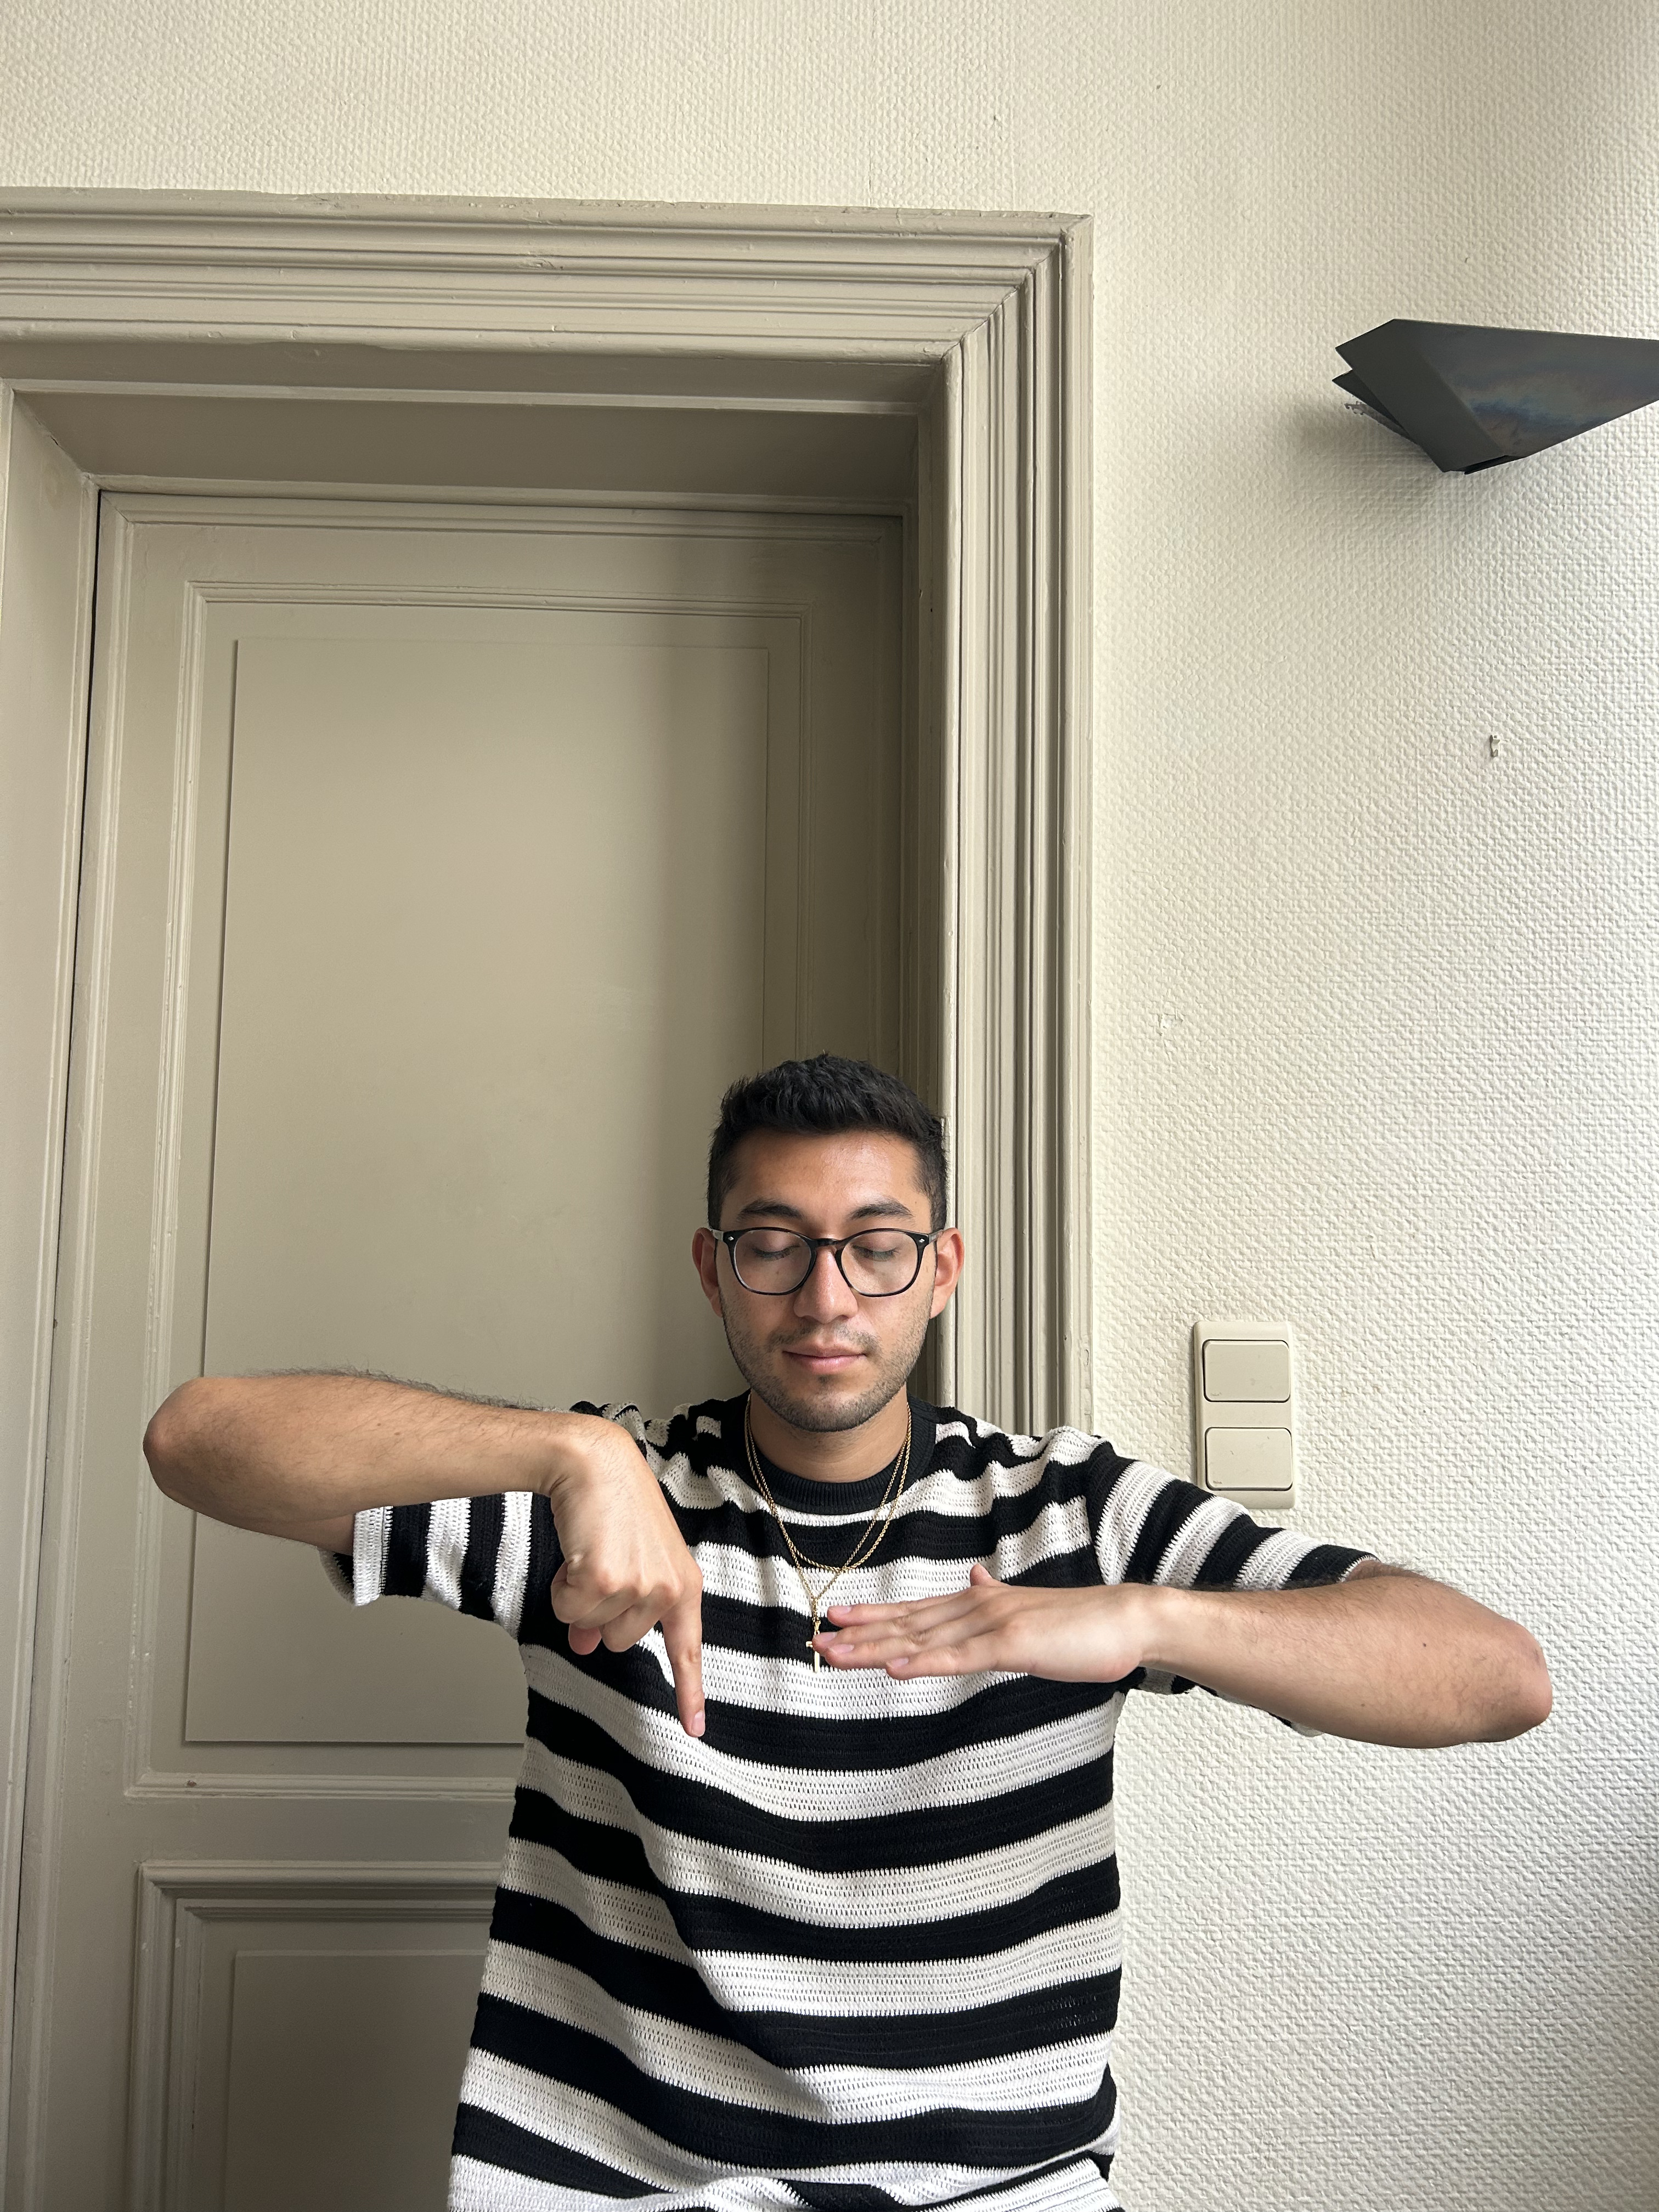deep: (139, 1049, 1554, 2207), (1328, 314, 1657, 477), (737, 1399, 917, 1669)
